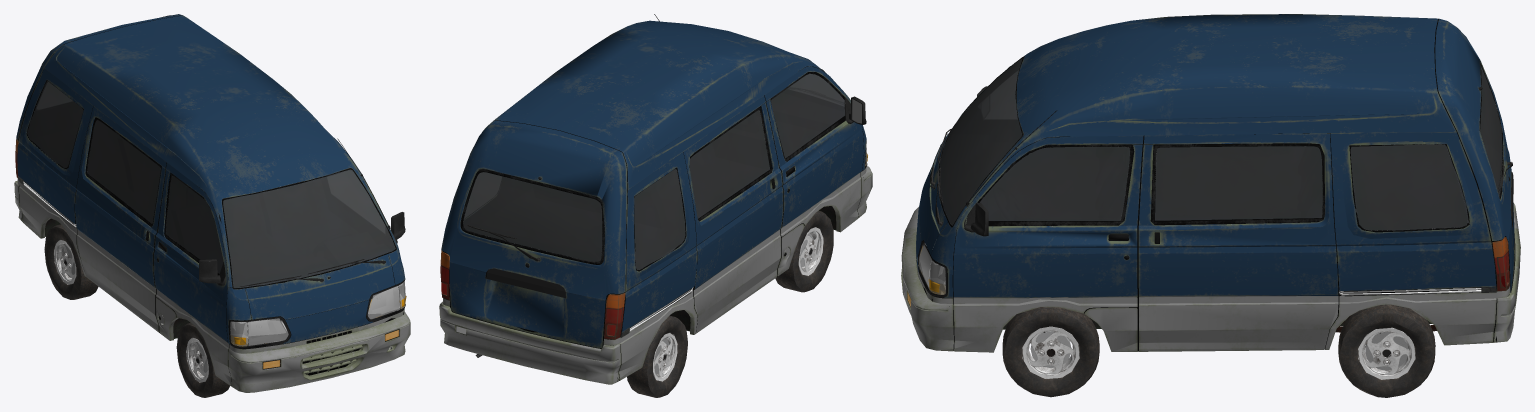
The model's file is kei_van.glb.
3 views of the same model, side by side, from view 1: azimuth 30°, elevation 25°; view 2: azimuth 150°, elevation 25°; view 3: azimuth 270°, elevation 25° (orthographic). The views are drawn at different scales.
Parts seen in each view (by area): view 1: Body_Body_0, Windows_Windows_0, Wheel_lp.001_Wheel_0, Trims_Trims_0, Lights_Lights_0; view 2: Body_Body_0, Windows_Windows_0, Wheel_lp.001_Wheel_0, Trims_Trims_0, Lights_Lights_0; view 3: Body_Body_0, Windows_Windows_0, Wheel_lp.001_Wheel_0, Trims_Trims_0, Lights_Lights_0, Suspension_suspension_0.
Boxes of the visible parts, <box> form: Body_Body_0: <box>14,14,410,392</box>; Windows_Windows_0: <box>27,81,395,287</box>; Wheel_lp.001_Wheel_0: <box>44,224,229,397</box>; Trims_Trims_0: <box>26,80,405,319</box>; Lights_Lights_0: <box>15,139,406,369</box>; Body_Body_0: <box>439,20,872,384</box>; Windows_Windows_0: <box>463,73,844,269</box>; Wheel_lp.001_Wheel_0: <box>627,210,833,397</box>; Trims_Trims_0: <box>460,14,866,298</box>; Lights_Lights_0: <box>440,141,867,339</box>; Body_Body_0: <box>901,14,1520,352</box>; Windows_Windows_0: <box>939,58,1502,230</box>; Wheel_lp.001_Wheel_0: <box>1002,304,1435,397</box>; Trims_Trims_0: <box>929,56,1513,259</box>; Lights_Lights_0: <box>907,148,1515,308</box>; Suspension_suspension_0: <box>1030,315,1436,370</box>.
Size of the model in its own units: 1.59 by 1.79 by 3.29.
Materials: 6 (6 with a texture image).
